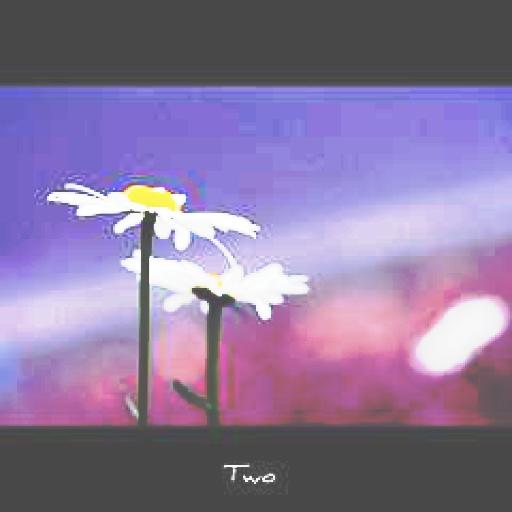daisy: (64, 184, 241, 241), (147, 256, 312, 314)
